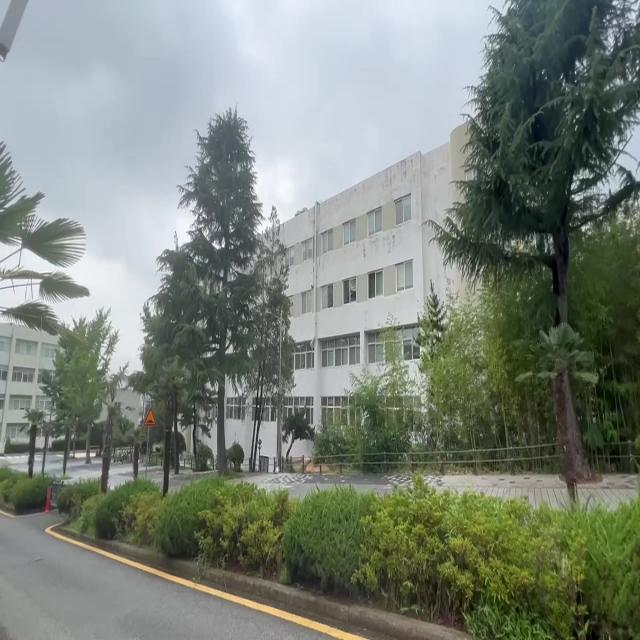building: (296, 170, 416, 387)
